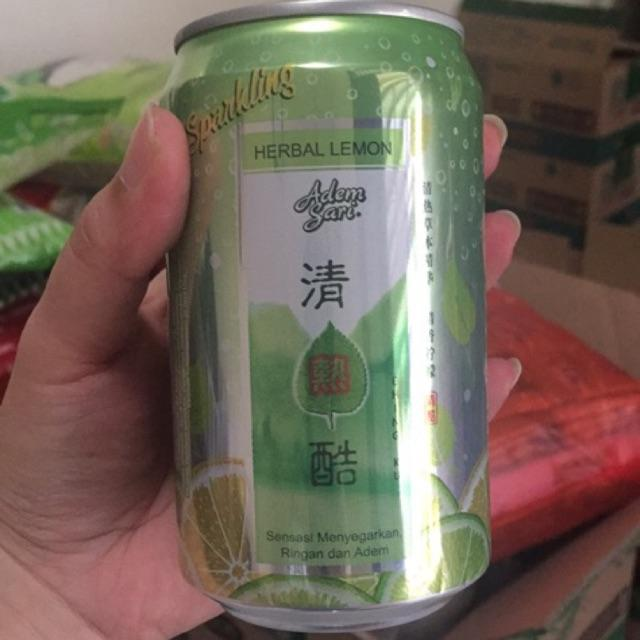ademsarikaleng: (155, 0, 493, 633)
